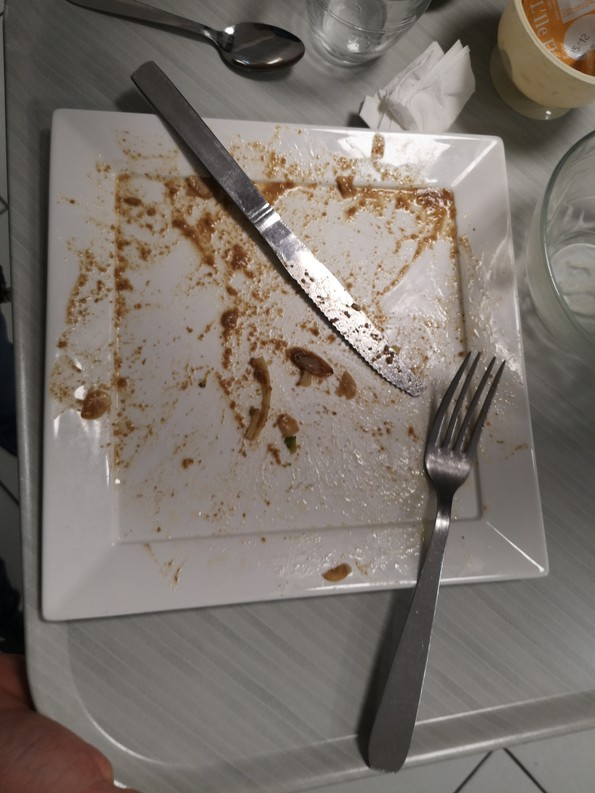cutlery: (127, 60, 427, 404), (358, 350, 519, 776), (74, 1, 309, 86)
trash: (348, 40, 486, 143), (496, 1, 584, 133)
